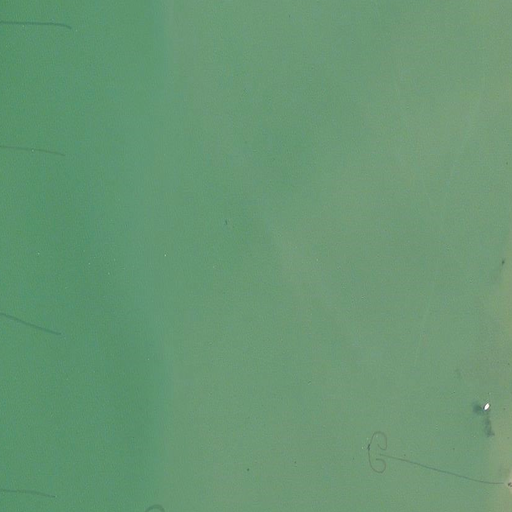ship: (484, 402, 489, 413)
